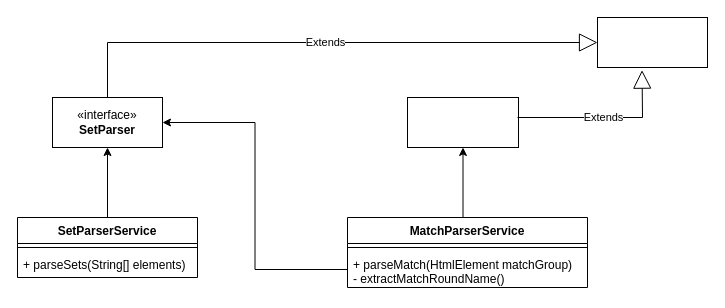
The diagram is 725 pixels wide and 308 high, and some of its shapes have lost their labels. Each missing label, with the centre of its shape:
«interface» BaseParser: pixel 652 42
«interface» MatchParser: pixel 462 122
